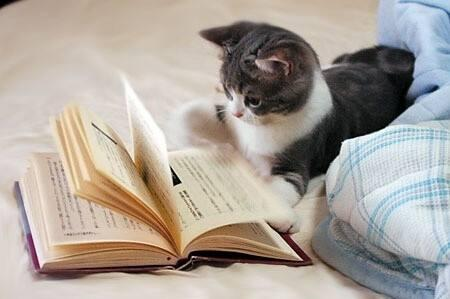book: (9, 69, 321, 281)
